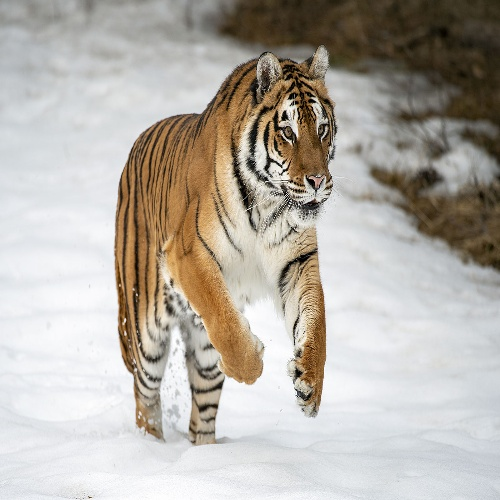tiger: (106, 36, 371, 460)
